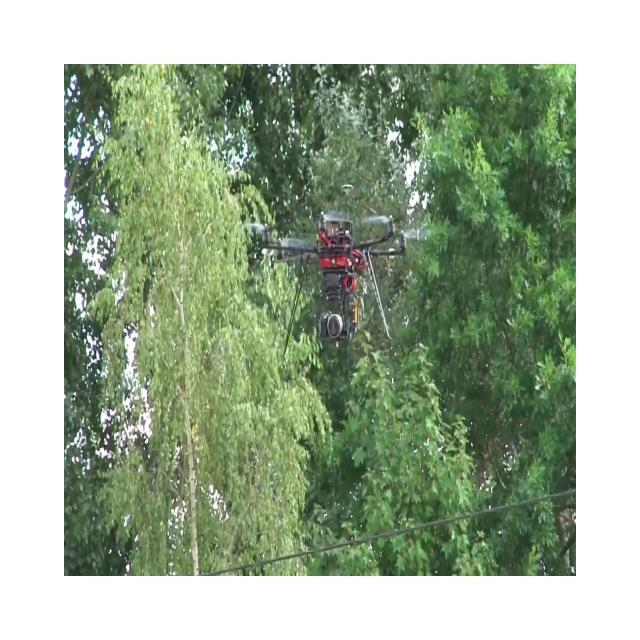drone: (239, 182, 426, 358)
